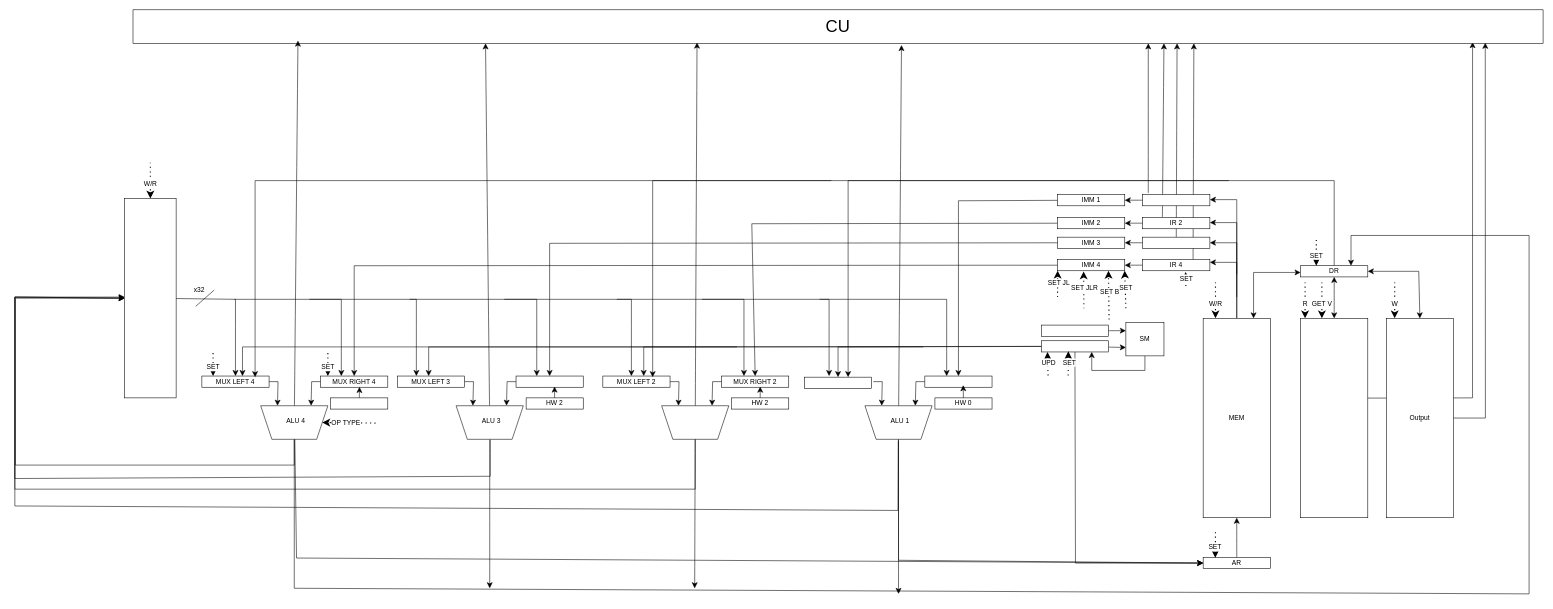
The diagram is 1553 pixels wide and 609 high, and some of its shapes have lost their labels. Here are the shapes that lost their labels. From the top down, the centre of each, then its label:
At point 1176,200: "IR 1".
At point 1176,242: "IR 3".
At point 150,298: "REGISTER FILE x32".
At point 1075,330: "HW 16".
At point 1075,346: "PC".
At point 549,381: "MUX RIGHT 3".
At point 838,382: "MUX LEFT 1".
At point 958,381: "MUX RIGHT 1".
At point 359,403: "HW 3".
At point 695,422: "ALU 2".
At point 1334,418: "Input".
